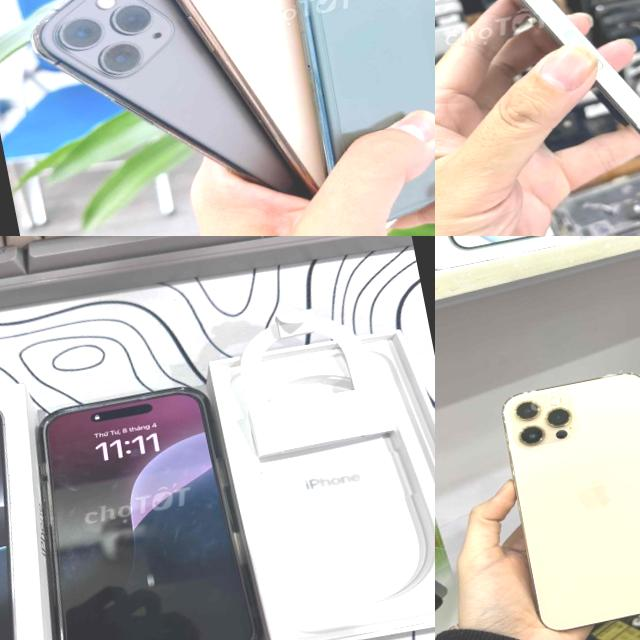gen_11: (265, 0, 435, 234)
gen_12_13: (435, 0, 640, 195), (494, 365, 640, 638)
gen_16: (43, 390, 255, 640)
